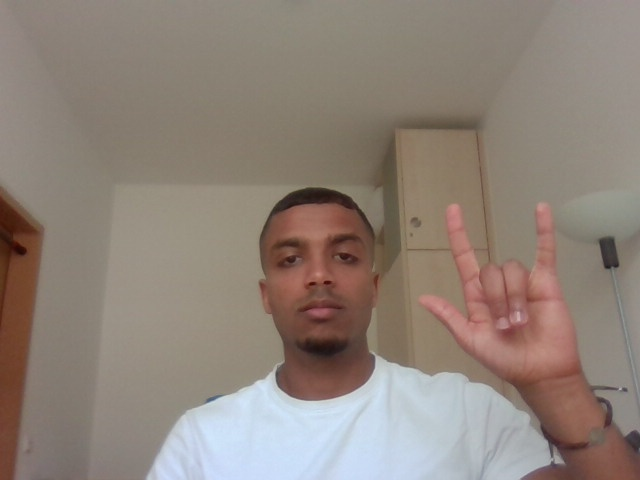absolutely: (416, 192, 589, 392)
